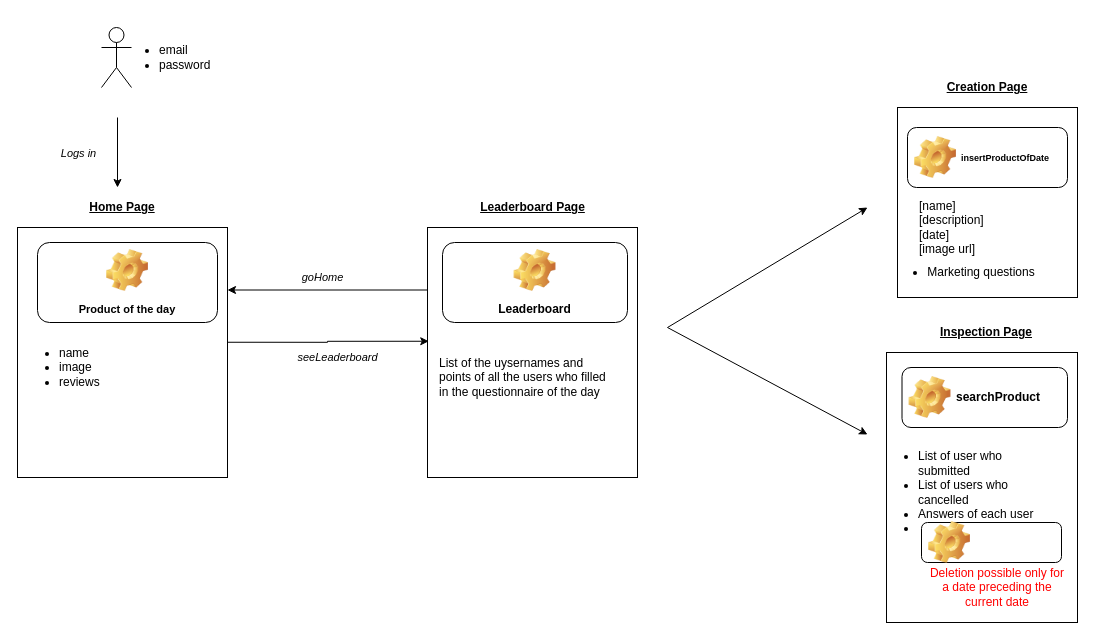
Some shapes in this 1095 by 640 pixel diagram are drawn without their labels. Here are the shapes that lost their labels. From the top down, the box of each, then its label:
(100, 26, 132, 88): Admin
(920, 522, 1062, 562): deleteProduct
